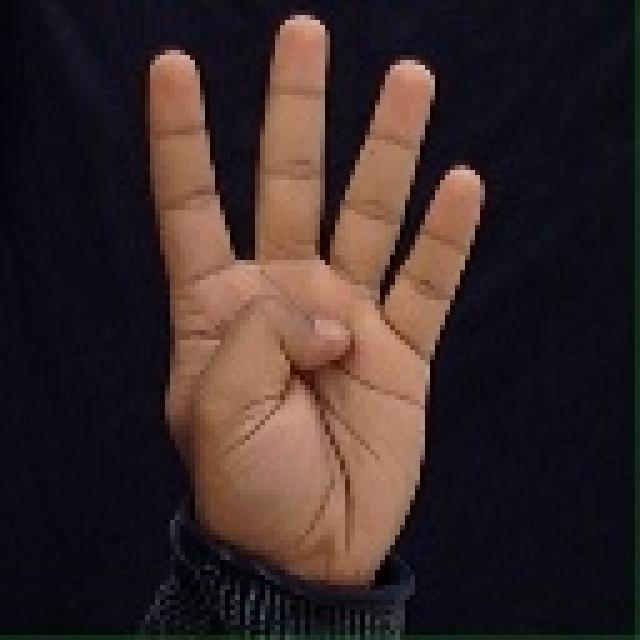Thanks: (126, 0, 510, 630)
